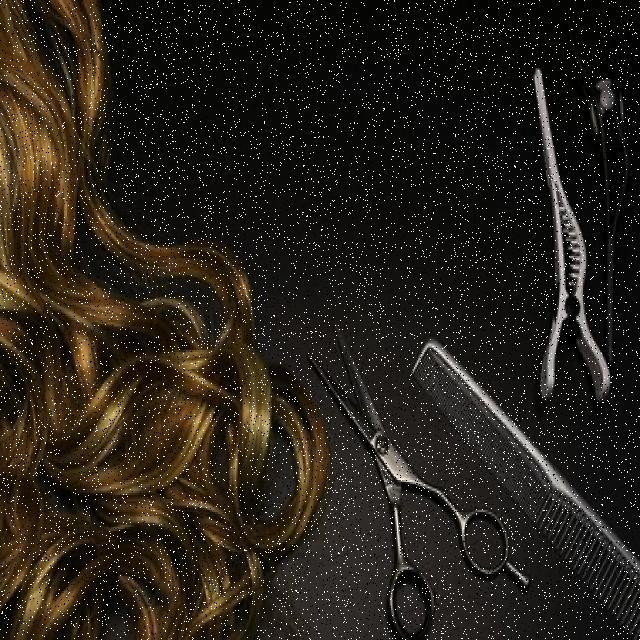scissors: (297, 303, 555, 639)
